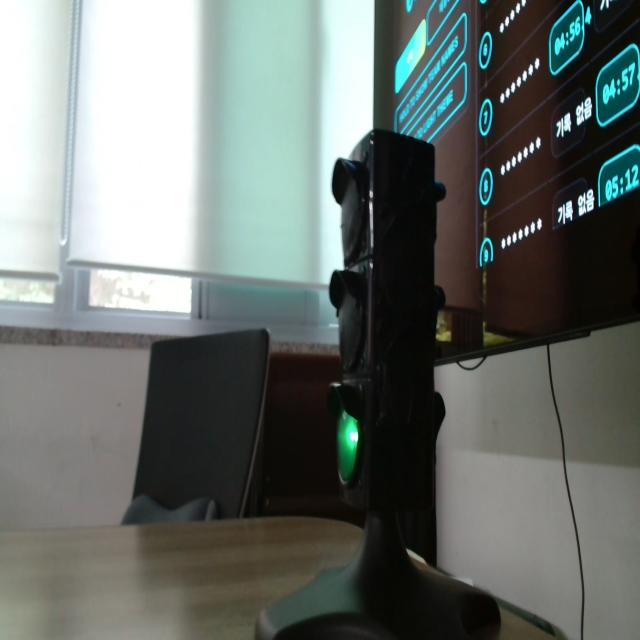green_light: (337, 411, 359, 482)
